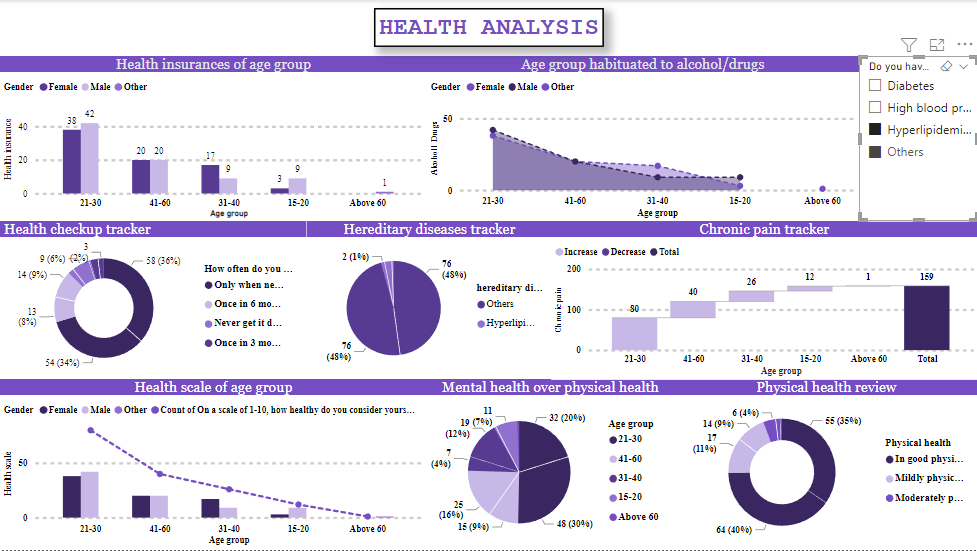

This screenshot's page, from the dashboard's own definition file:
{"tool":"powerbi","page":{"name":"Page 2","canvas":[1280,720],"ordinal":1},"visuals":[{"type":"areaChart","title":"Age group habituated to alcohol/drugs ","fields":{"Category":["Health Analysis.Age group"],"Y":["CountNonNull(Health Analysis.Are you habituated to alcohol/drugs ?)"],"Series":["Health Analysis.Gender"]},"box":[558.7,72.8,565.5,216.7],"z":0},{"type":"slicer","fields":{"Values":["Health Analysis.Do you have any hereditary conditions/ diseases ?"]},"box":[1124.2,72.8,155.8,216.7],"z":1000},{"type":"clusteredColumnChart","title":"Health insurances of age group","fields":{"Series":["Health Analysis.Gender"],"Category":["Health Analysis.Age group"],"Y":["CountNonNull(Health Analysis.Do you have a health insurance ? )"]},"box":[0,72.8,558.7,216.7],"z":2000},{"type":"pieChart","title":"Hereditary diseases tracker","fields":{"Series":["Health Analysis.Gender"],"Category":["Health Analysis.Do you have any hereditary conditions/ diseases ?"],"Y":["CountNonNull(Health Analysis.Gender)"]},"box":[401.3,289.5,320,206.6],"z":3000},{"type":"donutChart","title":"Health checkup tracker","fields":{"Series":["Health Analysis.Gender"],"Y":["CountNonNull(Health Analysis.Gender)"],"Category":["Health Analysis.How often do you get a health checkup ? "]},"box":[0,289.5,401.3,206.6],"z":4000},{"type":"lineClusteredColumnComboChart","title":"Health scale of age group","fields":{"Category":["Health Analysis.Age group"],"Series":["Health Analysis.Gender"],"Y":["CountNonNull(Health Analysis.On a scale of 1-10, how healthy do you consider yourself ?)"],"Y2":["CountNonNull(Health Analysis.On a scale of 1-10, how healthy do you consider yourself ?)"]},"box":[0,496.1,558.7,223.5],"z":5000},{"type":"donutChart","title":"Physical health review ","fields":{"Y":["CountNonNull(Health Analysis.Gender)"],"Series":["Health Analysis.Gender"],"Category":["Health Analysis.Would you say you are :"]},"box":[883.8,496.1,396.2,223.5],"z":6000},{"type":"pieChart","title":"Mental health over physical health","fields":{"Category":["Health Analysis.Age group"],"Y":["CountNonNull(Health Analysis.Does your mental well being has an affect on your physical health ?)"],"Series":["Health Analysis.Does your mental well being has an affect on your physical health ?"]},"box":[558.3,495.9,325.5,223],"z":7000},{"type":"waterfallChart","title":"Chronic pain tracker ","fields":{"Category":["Health Analysis.Age group"],"Y":["CountNonNull(Health Analysis.Do you experience any chronic pain ?)"]},"box":[721.3,289.5,558.7,208.3],"z":8000},{"type":"shape","box":[489,11.1,300.6,51.3],"z":9000}]}

Visuals, with their boxes in screenshot pixels (x1, y1, x2, y2), scaled from the page's 1280x720 canvas onto the 977x551 screenshot:
"Age group habituated to alcohol/drugs " areaChart: select_region(426, 56, 858, 222)
slicer - Health Analysis.Do you have any hereditary conditions/ diseases ?: select_region(858, 56, 976, 222)
"Health insurances of age group" clusteredColumnChart: select_region(0, 56, 426, 222)
"Hereditary diseases tracker" pieChart: select_region(306, 222, 551, 380)
"Health checkup tracker" donutChart: select_region(0, 222, 306, 380)
"Health scale of age group" lineClusteredColumnComboChart: select_region(0, 380, 426, 550)
"Physical health review " donutChart: select_region(675, 380, 976, 550)
"Mental health over physical health" pieChart: select_region(426, 380, 675, 550)
"Chronic pain tracker " waterfallChart: select_region(551, 222, 976, 381)
shape: select_region(373, 8, 603, 48)
